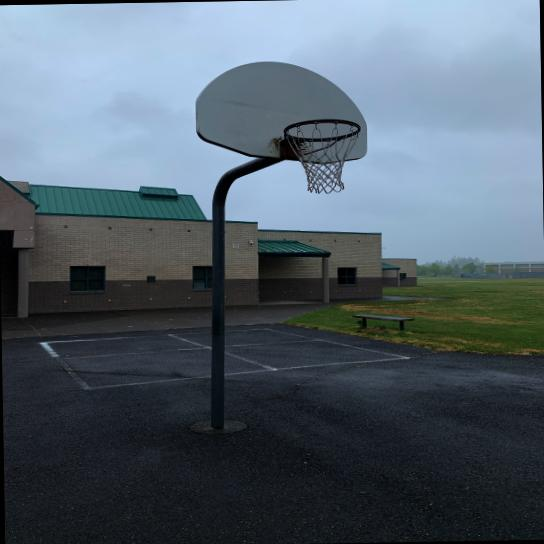basketball-hoop: (282, 116, 362, 194)
